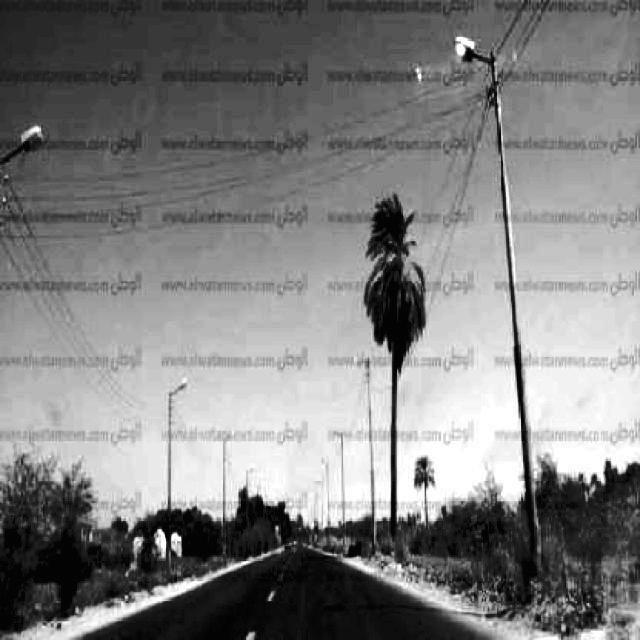Light: (450, 33, 543, 572), (2, 128, 48, 218), (165, 380, 189, 551), (222, 431, 237, 554)
